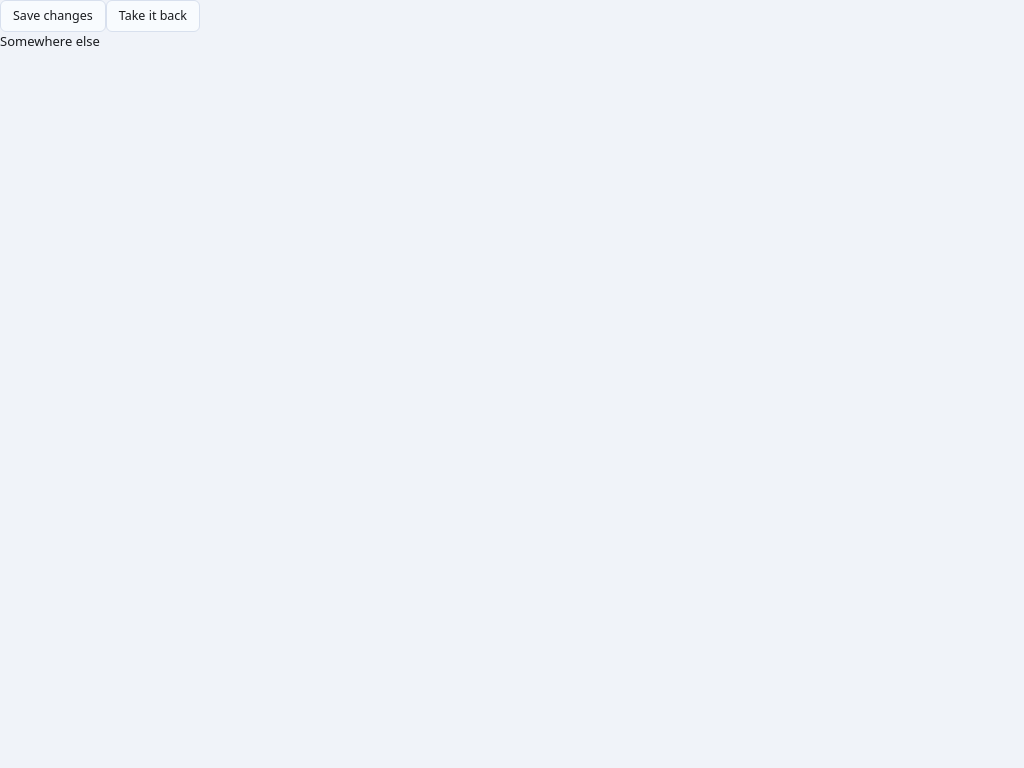
Scenario: is reached with F6 and Tab and dismissed with Escape, and the focus goes back
Later steps or results of the test are not shown.
Hover over the text "Somewhere else" at [50, 41], box [0,32,100,50]
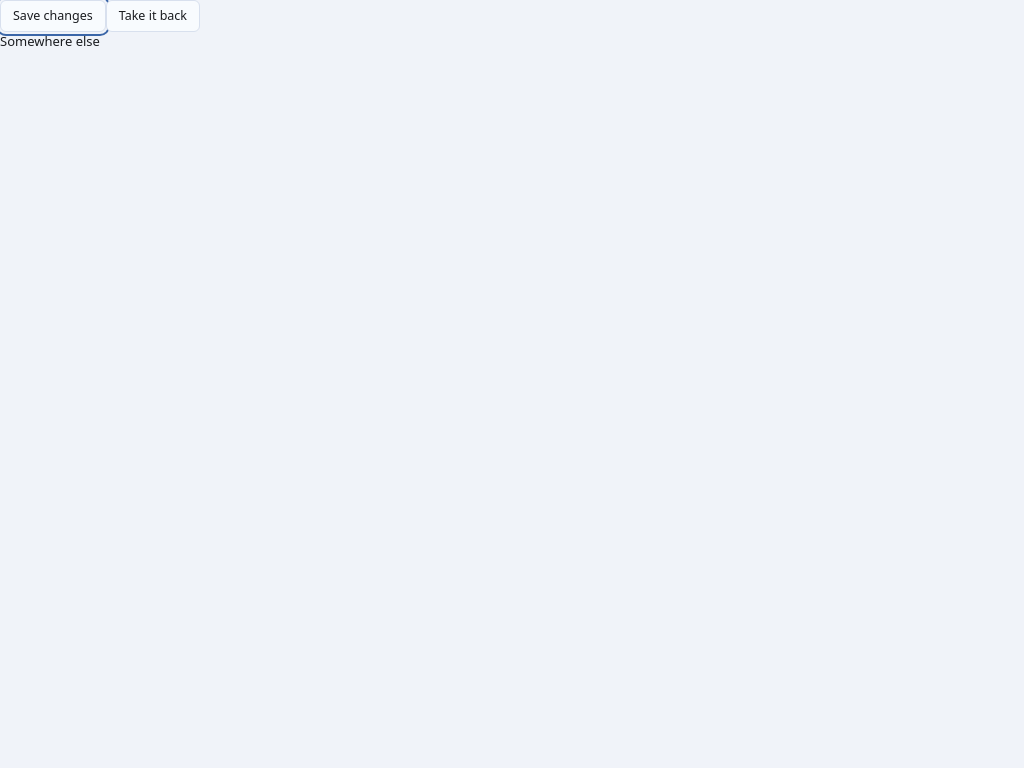
Press Enter
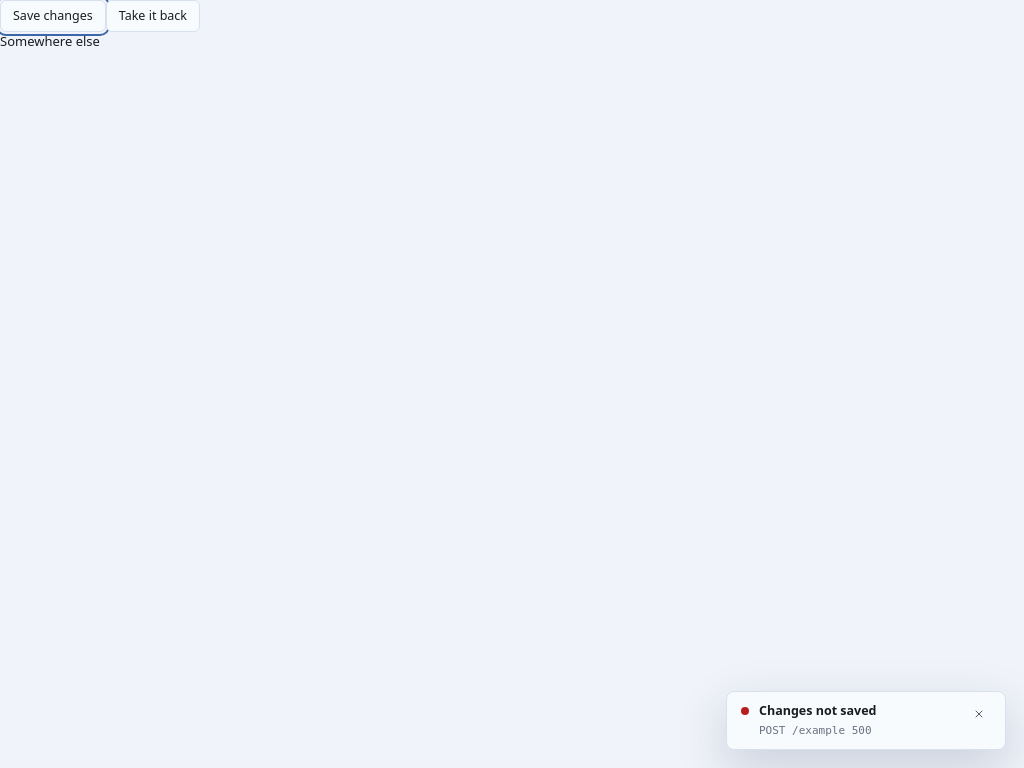
Check: the dialog "Changes not saved POST /example 500" is shown, box [726,691,1006,750]
